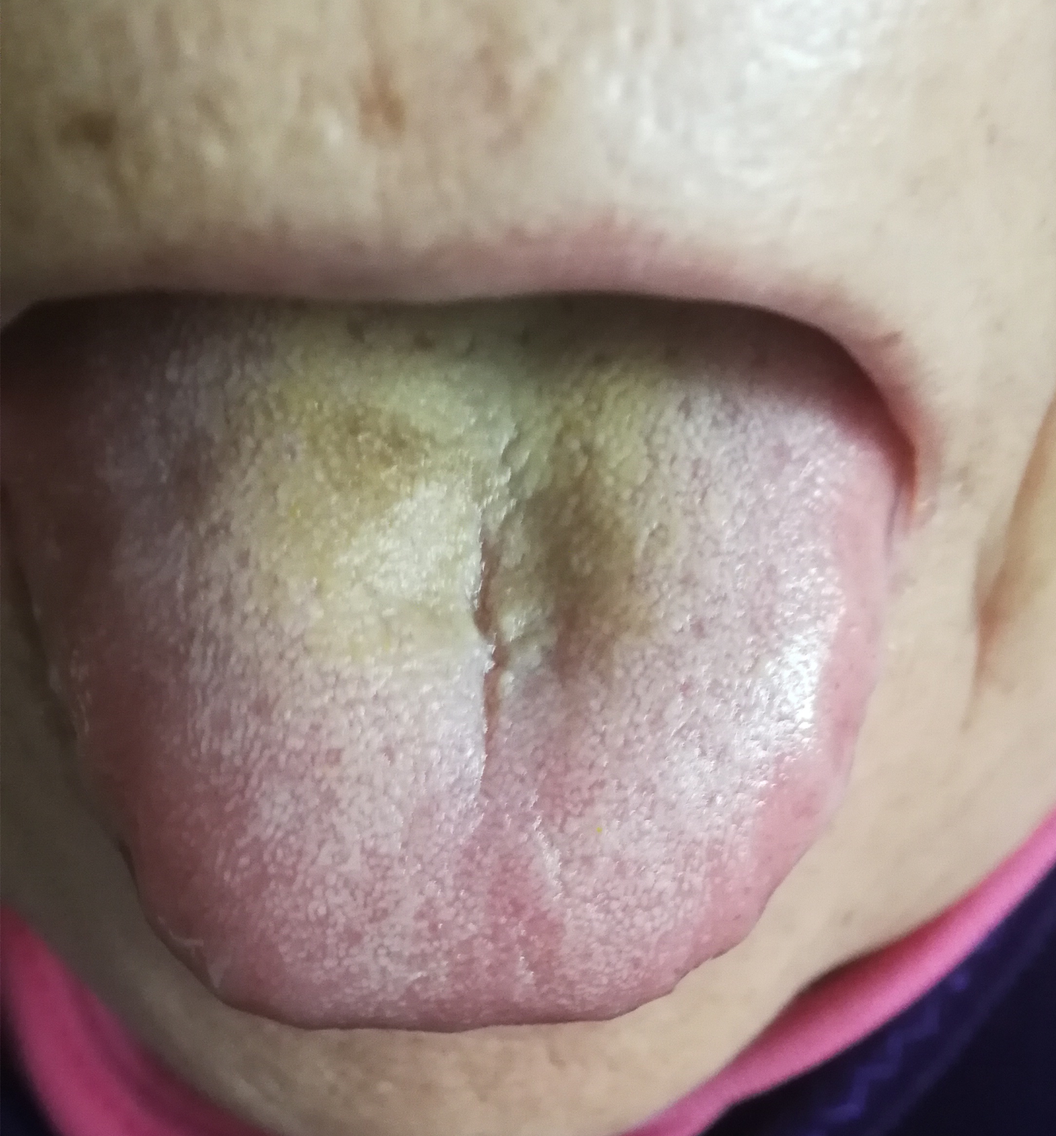huangtaishe: (0, 289, 897, 1033)
liewenshe: (464, 429, 518, 802)
